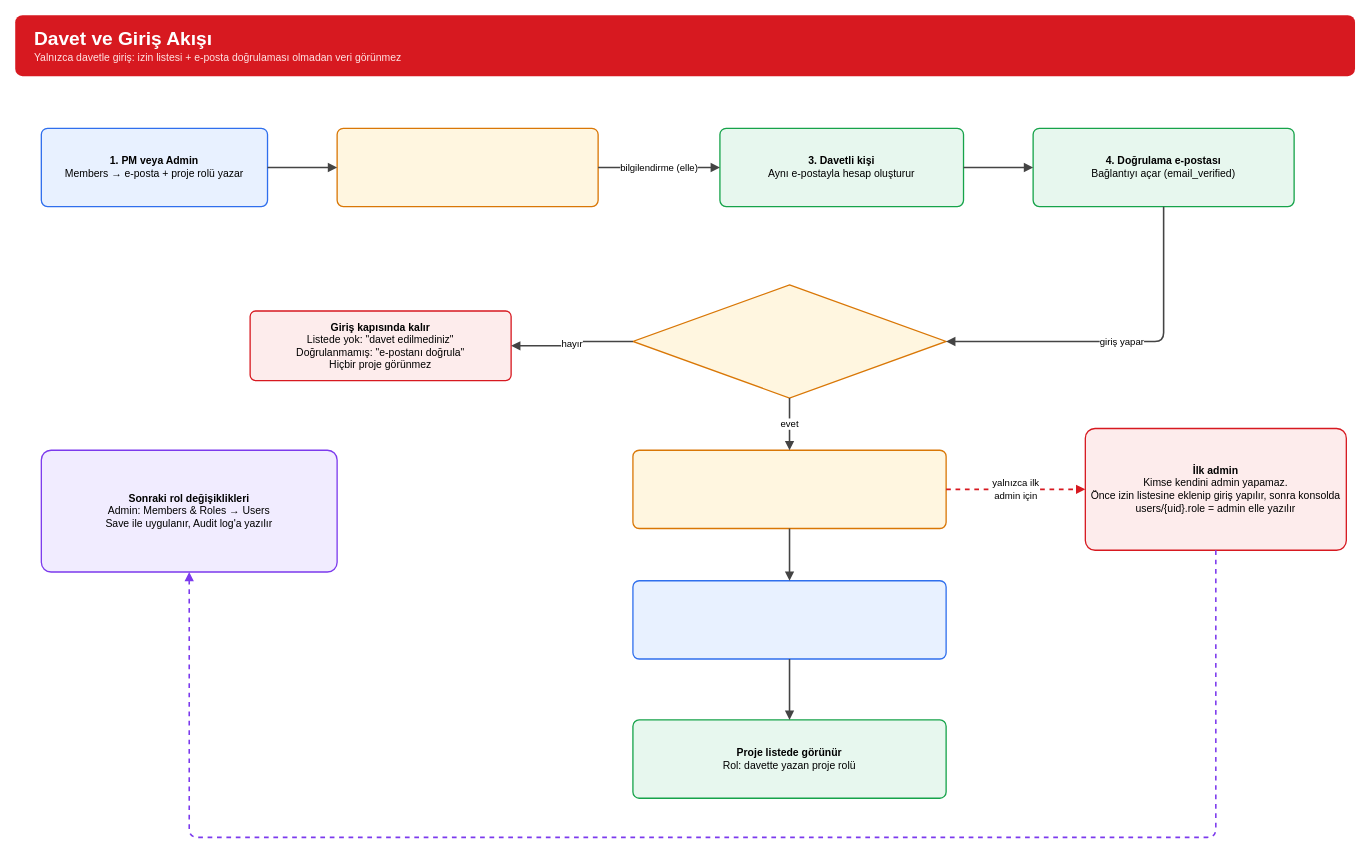
Image size: 1369x860. Some labels were removed from this diagram. The centre of each missing label's shape, as x and y in pixels:
"2. Firestore'a yazılır allowlist/{email} + invites/{proje_email}" belongs at [467,167].
"Admin / Executive mi? Değilse izin listesinde ve e-postası doğrulanmış mı?" belongs at [789,341].
"claimInvites() invites eşleşir → projects.members'a eklenir" belongs at [789,619].
"users/{uid} oluşturulur role = member (her zaman)" belongs at [789,489].
